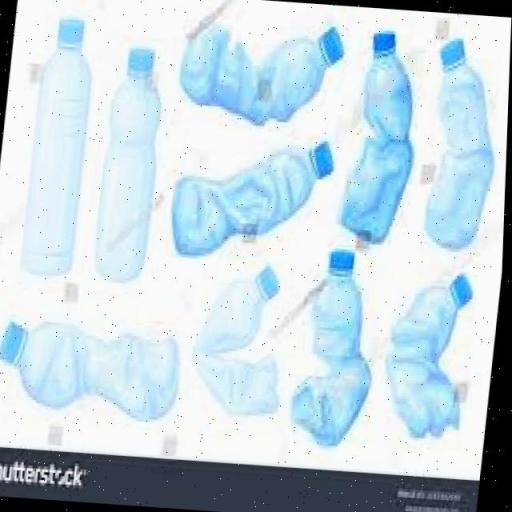plastic: (0, 292, 197, 442), (18, 4, 108, 284), (166, 128, 338, 268), (170, 5, 350, 136), (86, 37, 174, 296), (415, 32, 509, 258), (340, 32, 430, 252), (292, 246, 390, 448), (381, 266, 481, 444), (191, 260, 299, 422)
